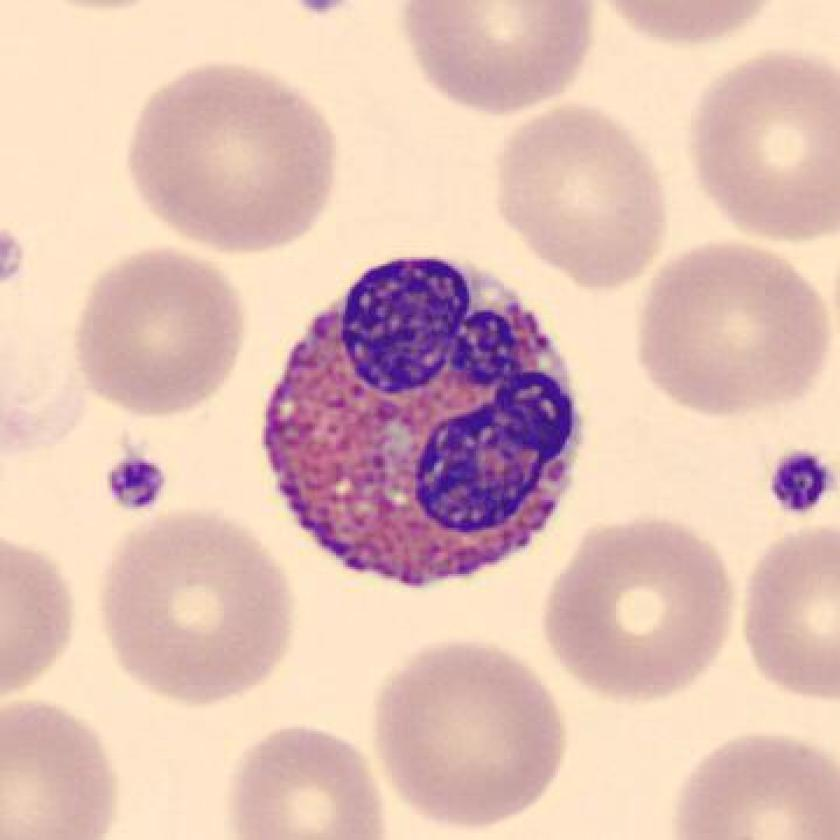eosinophil: (244, 244, 596, 603)
